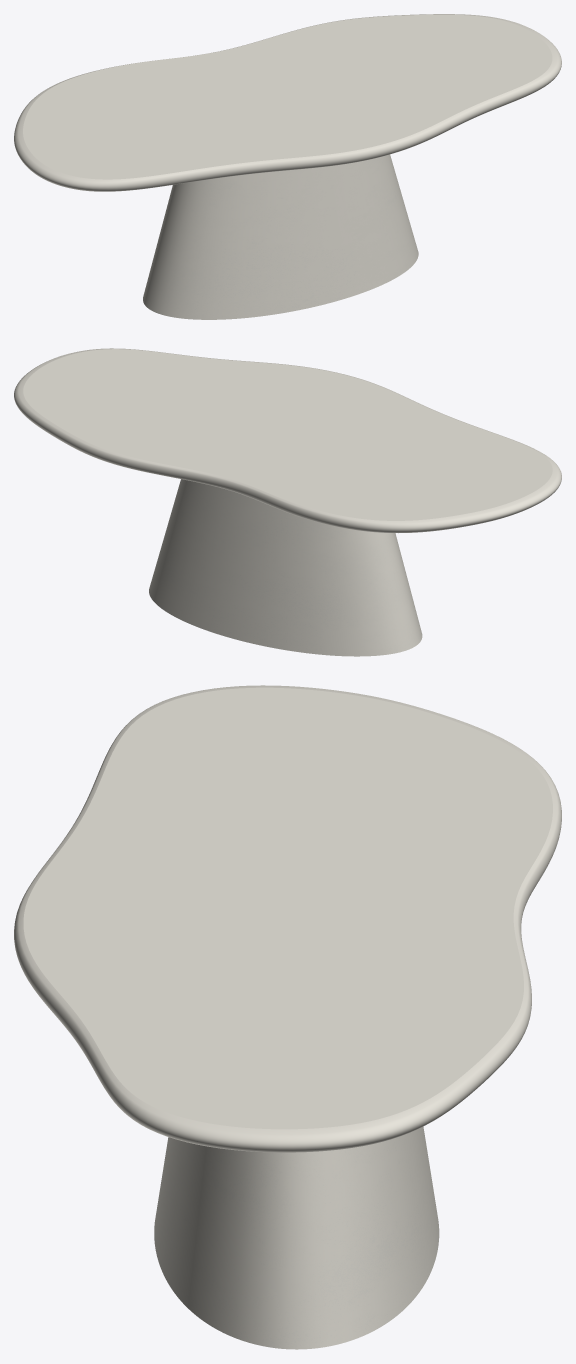
File: pale_toplast_round_eqone.glb
3 renders of one model, top to bottom at view 1: azimuth 30°, elevation 25°; view 2: azimuth 150°, elevation 25°; view 3: azimuth 270°, elevation 25°, orthographic. The views are drawn at different scales.
Parts seen in each view (by area): view 1: round_toplast, eqone; view 2: round_toplast, eqone; view 3: round_toplast, eqone.
Boxes of the visible parts, x1,y1,x2,y2 form: round_toplast: (14, 14, 561, 191); eqone: (143, 154, 418, 319); round_toplast: (14, 348, 561, 533); eqone: (149, 479, 422, 656); round_toplast: (14, 685, 561, 1152); eqone: (154, 1126, 439, 1349).
Bounding box in the file's own units: 7.5 × 2.5 × 3.8.
1 material, 1 textured.
